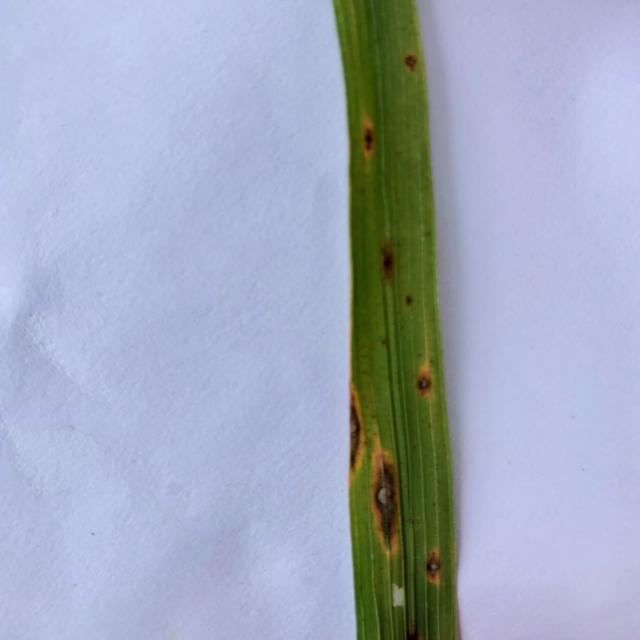brown spot: (360, 108, 380, 174), (401, 52, 418, 73)
leaf blast: (369, 429, 407, 562), (348, 378, 368, 480), (419, 551, 445, 593), (409, 361, 434, 403)
